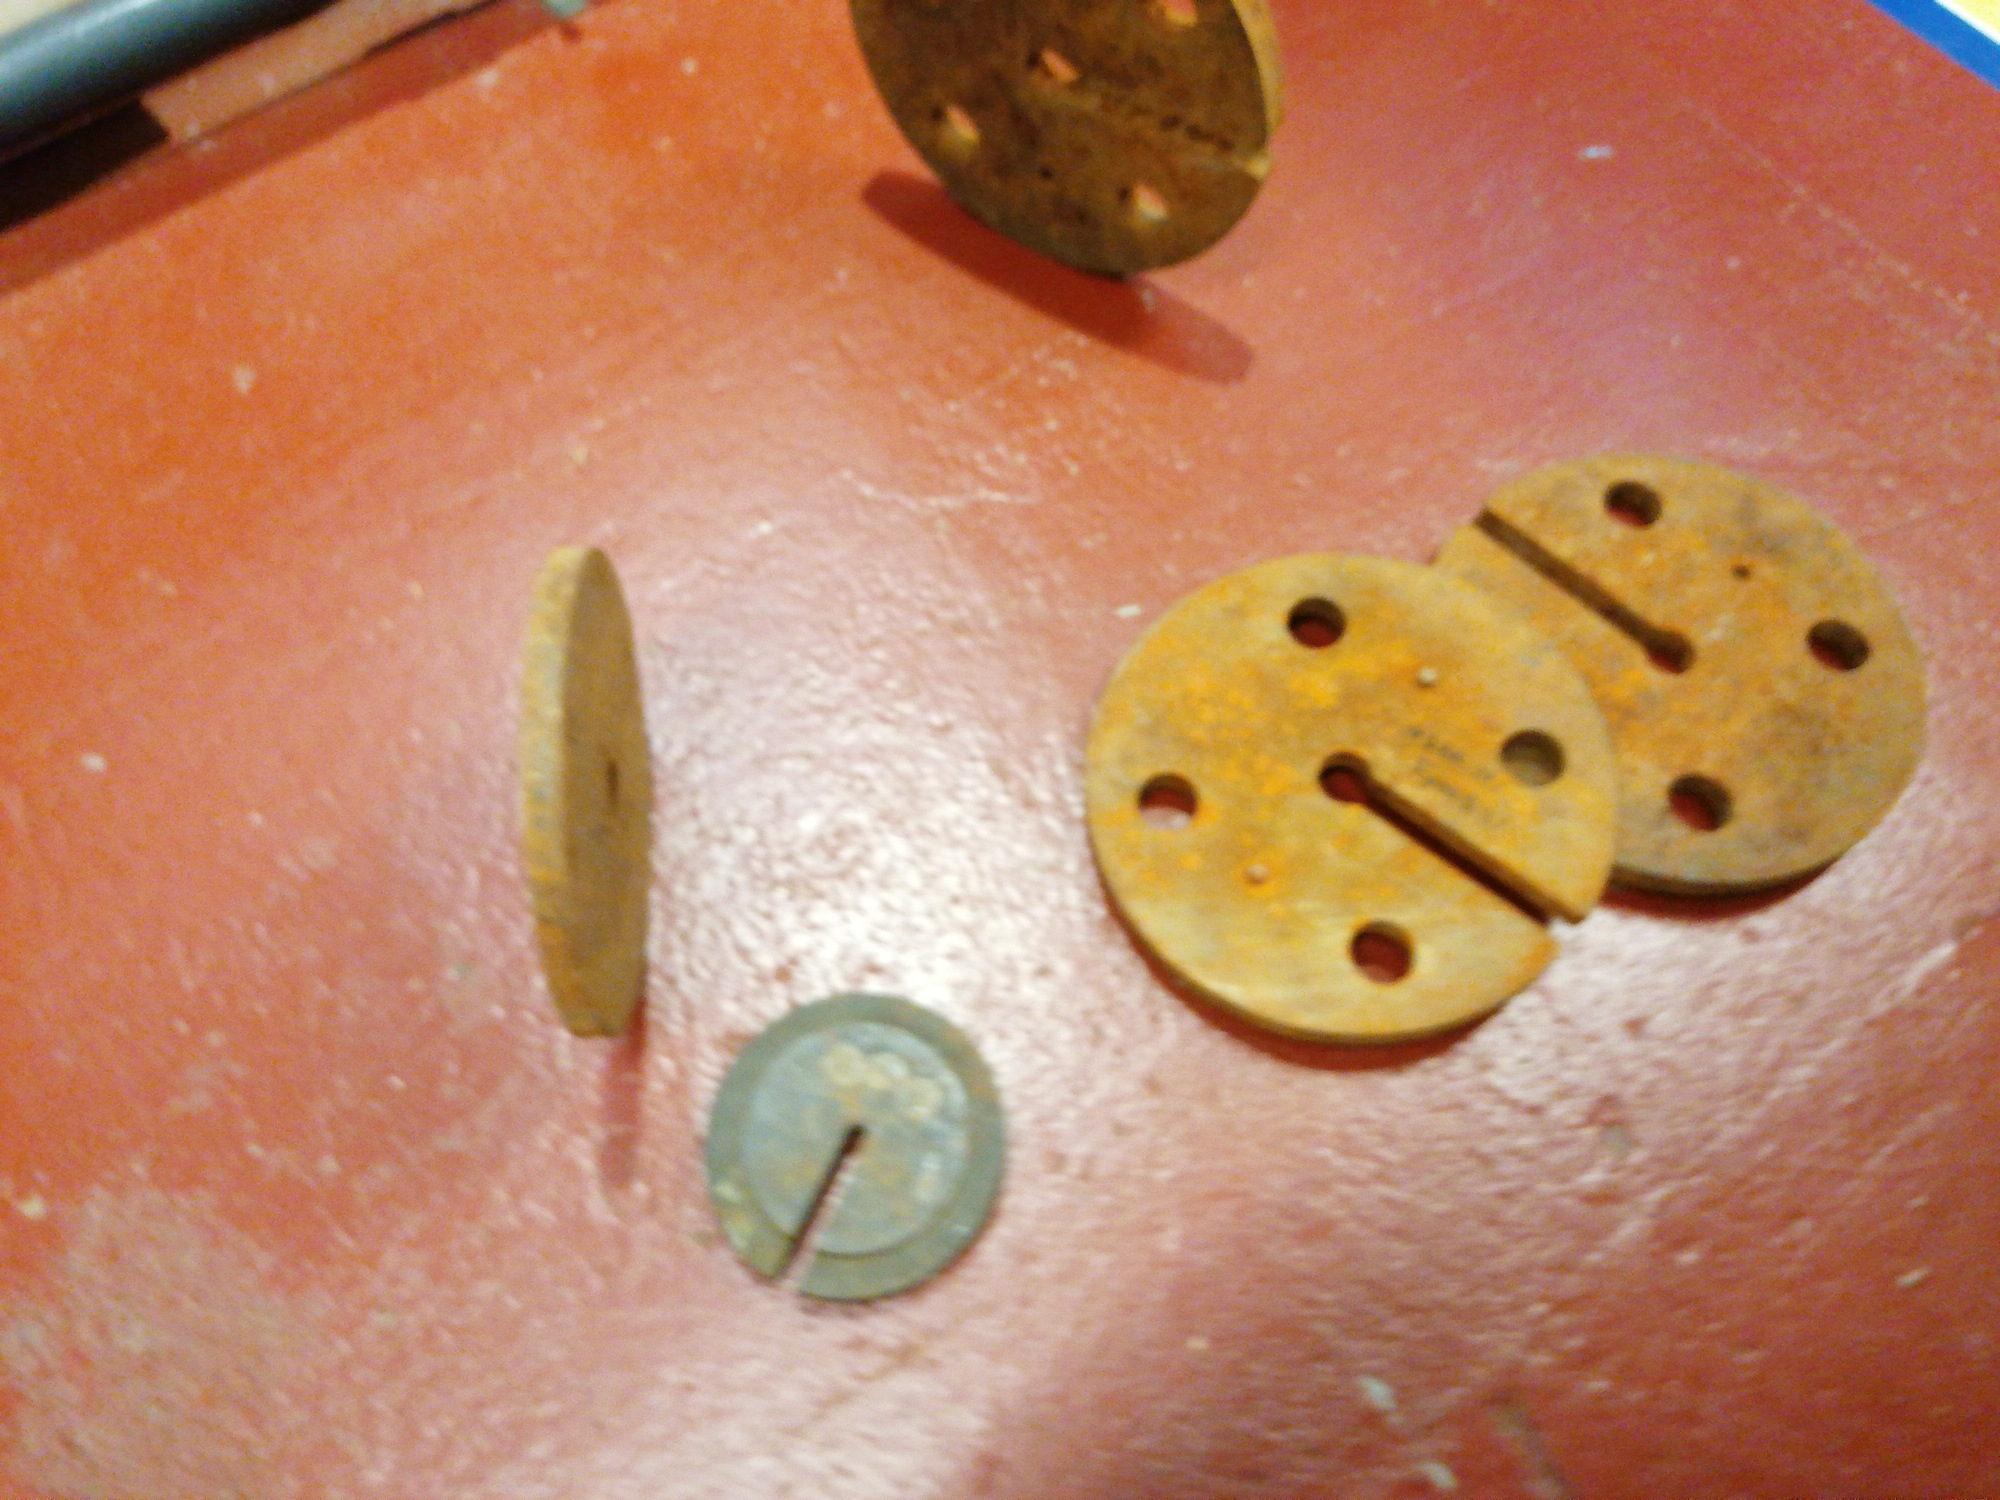flange: (1080, 547, 1620, 1048), (1435, 454, 1931, 903), (836, 2, 1290, 276), (702, 991, 1005, 1303), (528, 540, 652, 1038)
